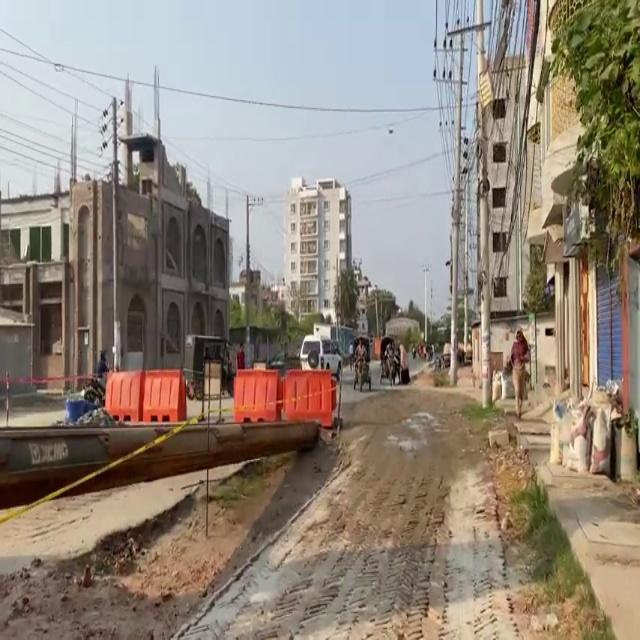Construction-barrier: (0, 473, 203, 580), (537, 471, 639, 639)
Fallen-tree: (351, 354, 371, 392), (379, 351, 400, 386)
Garbage: (103, 367, 186, 422)
Garbage-bin: (508, 328, 530, 418), (236, 342, 245, 369)
Pothole: (495, 389, 639, 639)
Traffic-cone: (0, 334, 343, 509), (182, 333, 235, 400)
